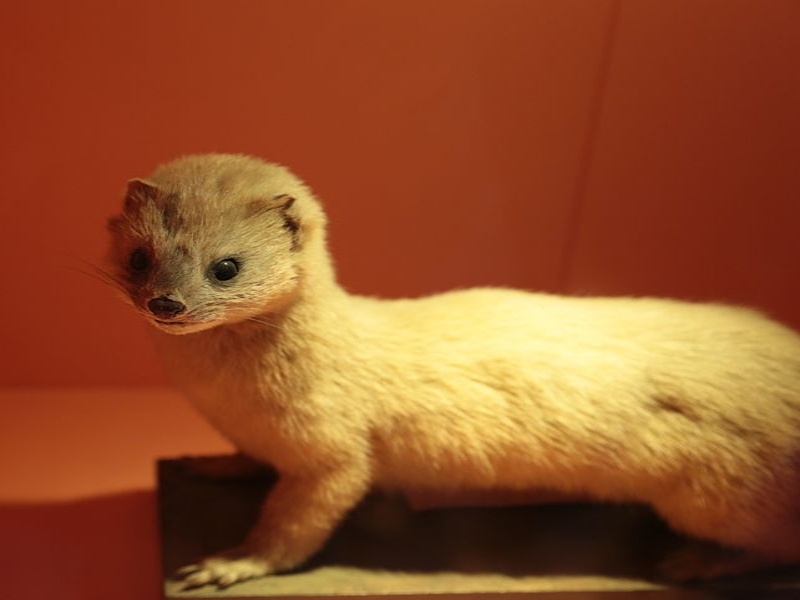minkish: (110, 155, 800, 584)
